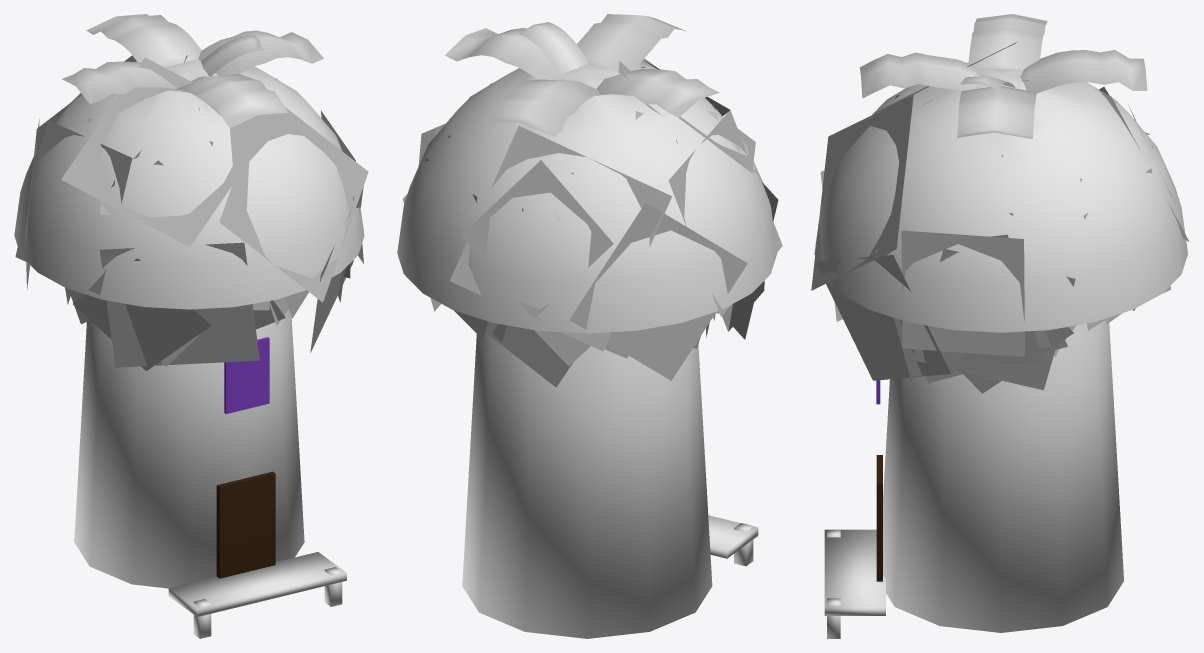
The model's file is cabane1.glb.
3 views of the same model, side by side, from view 1: azimuth 30°, elevation 25°; view 2: azimuth 150°, elevation 25°; view 3: azimuth 270°, elevation 25° (orthographic). The views are drawn at different scales.
Visible parts, largest first — view 1: dome, murs, touffes, palmes, terrasse, porte, banniere; view 2: dome, murs, touffes, palmes, terrasse; view 3: dome, murs, touffes, palmes, terrasse, porte.
Boxes of the visible parts, x1,y1,x2,y2 form: dome: (14, 59, 364, 309); murs: (74, 309, 304, 588); touffes: (15, 55, 368, 371); palmes: (62, 14, 323, 128); terrasse: (168, 552, 346, 638); porte: (216, 471, 275, 578); banniere: (224, 337, 269, 413); dome: (397, 63, 777, 333); murs: (462, 333, 712, 638); touffes: (402, 58, 782, 387); palmes: (444, 14, 719, 136); terrasse: (708, 515, 758, 566); dome: (814, 62, 1187, 332); murs: (883, 320, 1123, 632); touffes: (811, 42, 1189, 393); palmes: (859, 14, 1147, 138); terrasse: (824, 529, 885, 638); porte: (876, 455, 882, 581).
Bounding box in the file's own units: 4.93 × 7.9 × 4.93.
